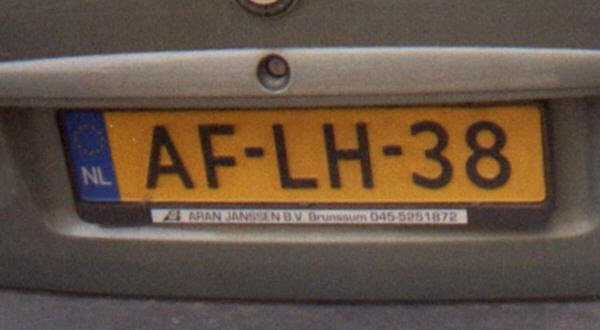license_plate: (54, 100, 548, 211)
